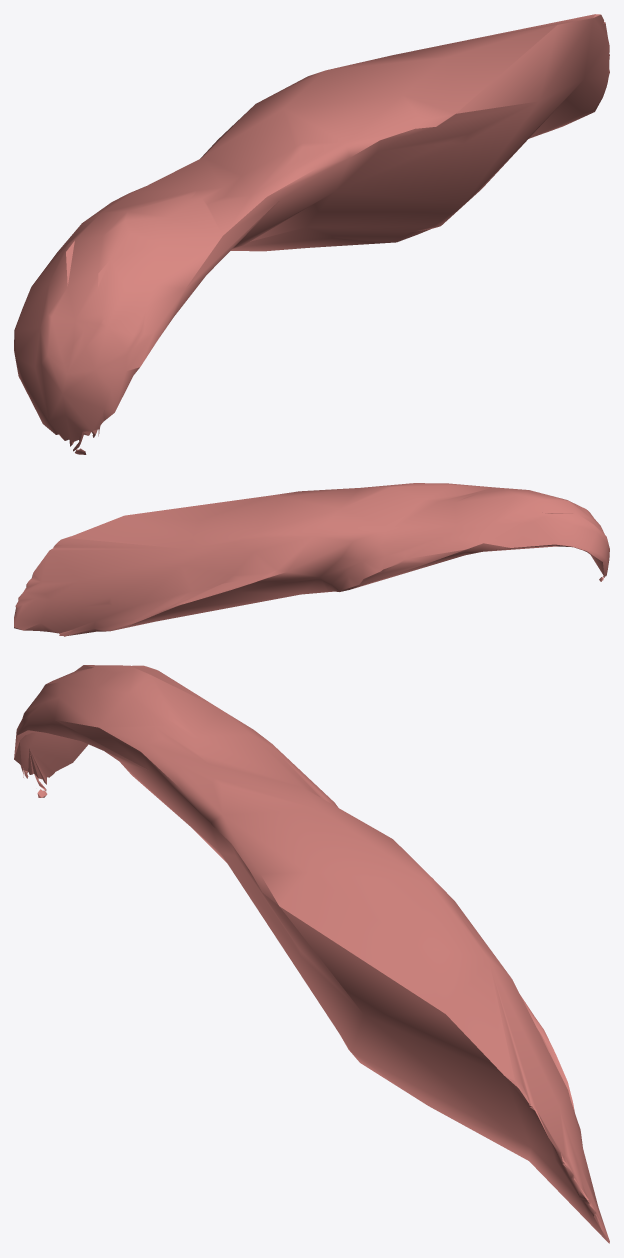
Rendered from fma32544_fj1506.glb.
3 renders of one model, top to bottom at view 1: azimuth 30°, elevation 25°; view 2: azimuth 150°, elevation 25°; view 3: azimuth 270°, elevation 25°, orthographic. The views are drawn at different scales.
Visible parts, largest first — view 1: FMA32544_FJ1506; view 2: FMA32544_FJ1506; view 3: FMA32544_FJ1506.
Part boxes in pixels (box(x1,y1,x2,y2)): FMA32544_FJ1506: box(14, 14, 609, 454); FMA32544_FJ1506: box(14, 483, 609, 636); FMA32544_FJ1506: box(14, 665, 609, 1243).
Bounding box in the file's own units: 0.1246 × 0.035 × 0.0789.
